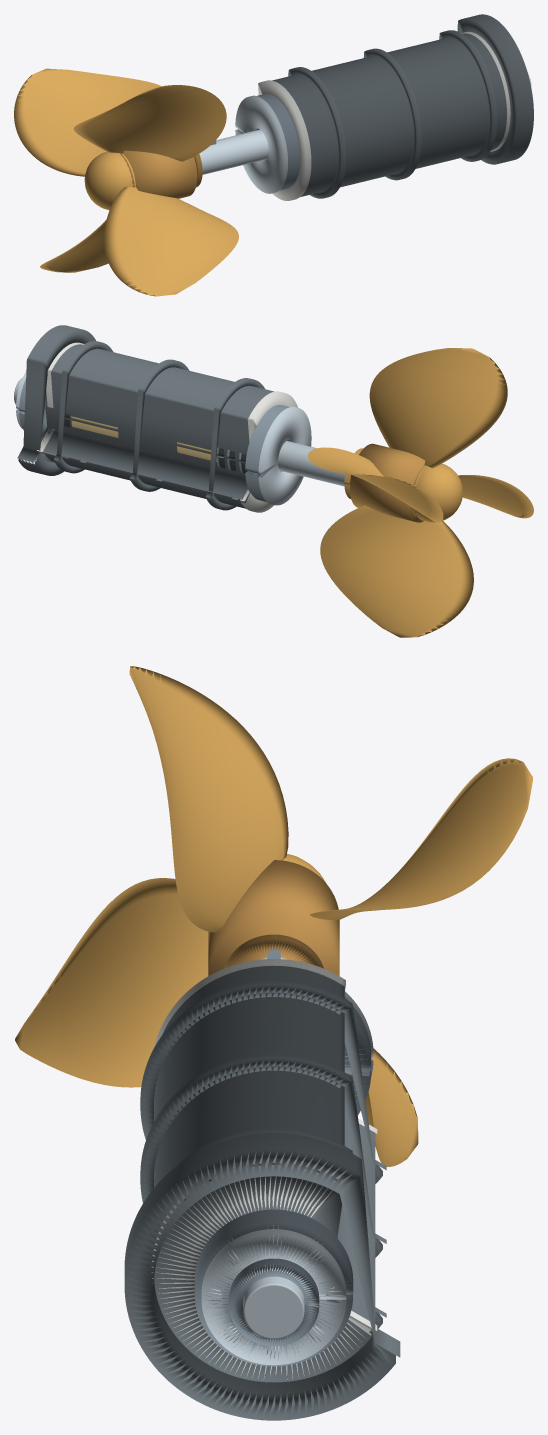
Rendered from marine_propeller_assembly.glb.
3 views of the same model, one above another, from view 1: azimuth 30°, elevation 25°; view 2: azimuth 150°, elevation 25°; view 3: azimuth 270°, elevation 25° (orthographic). The views are drawn at different scales.
Parts seen in each view (by area): view 1: Stern_Tube_Housing_Cutaway, Propeller_Blade_3, Propeller_Blade_1, Propeller_Blade_2, Shaft_Bracket_Cutaway, Sealing_Housing_Trim, Propeller_Hub, Propeller_Shaft, Hub_Aft_Nose, Stern_Tube_Cut_Edge_Aft, Propeller_Blade_4, Housing_Reinforcement_2 (+4 smaller); view 2: Stern_Tube_Housing_Cutaway, Propeller_Blade_4, Propeller_Blade_2, Shaft_Bracket_Cutaway, Propeller_Hub, Sealing_Housing_Trim, Propeller_Blade_1, Propeller_Blade_3, Hub_Aft_Nose, Propeller_Shaft, Sealing_Housing, Housing_Reinforcement_1 (+5 smaller); view 3: Stern_Tube_Housing_Cutaway, Shaft_Bracket_Cutaway, Propeller_Blade_3, Propeller_Blade_2, Propeller_Blade_1, Coupling_Face, Propeller_Hub, Housing_Reinforcement_1, Housing_Reinforcement_2, Shaft_Coupling_Flange, Stern_Tube_Cut_Edge_Fwd, Propeller_Blade_4 (+6 smaller).
Boxes of the visible parts, x1,y1,x2,y2 form: Stern_Tube_Housing_Cutaway: (272,33,506,196); Propeller_Blade_3: (104,186,238,296); Propeller_Blade_1: (14,68,161,176); Propeller_Blade_2: (73,85,226,161); Shaft_Bracket_Cutaway: (457,14,533,164); Sealing_Housing_Trim: (235,95,287,193); Propeller_Hub: (123,150,197,198); Propeller_Shaft: (199,72,531,174); Hub_Aft_Nose: (84,151,135,210); Stern_Tube_Cut_Edge_Aft: (258,80,311,200); Propeller_Blade_4: (40,219,108,272); Housing_Reinforcement_2: (363,48,421,180); Stern_Tube_Housing_Cutaway: (38,344,273,508); Propeller_Blade_4: (320,505,473,637); Propeller_Blade_2: (369,348,507,468); Shaft_Bracket_Cutaway: (17,325,95,475); Propeller_Hub: (350,443,425,522); Sealing_Housing_Trim: (258,407,311,505); Propeller_Blade_1: (308,447,443,522); Propeller_Blade_3: (458,475,533,518); Hub_Aft_Nose: (412,463,462,522); Propeller_Shaft: (14,378,349,486); Sealing_Housing: (245,405,289,501); Housing_Reinforcement_1: (205,378,264,510); Stern_Tube_Housing_Cutaway: (154,965,375,1382); Shaft_Bracket_Cutaway: (124,1133,400,1420); Propeller_Blade_3: (15,878,208,1087); Propeller_Blade_2: (129,666,288,932); Propeller_Blade_1: (309,758,532,919); Coupling_Face: (201,1229,346,1365); Propeller_Hub: (208,860,339,975); Housing_Reinforcement_1: (140,980,386,1183); Housing_Reinforcement_2: (140,1054,386,1257); Shaft_Coupling_Flange: (194,1209,353,1366); Stern_Tube_Cut_Edge_Fwd: (151,1158,377,1379); Propeller_Blade_4: (365,1048,418,1166).
Bounding box in the file's own units: 4.72 × 2.29 × 2.29.
